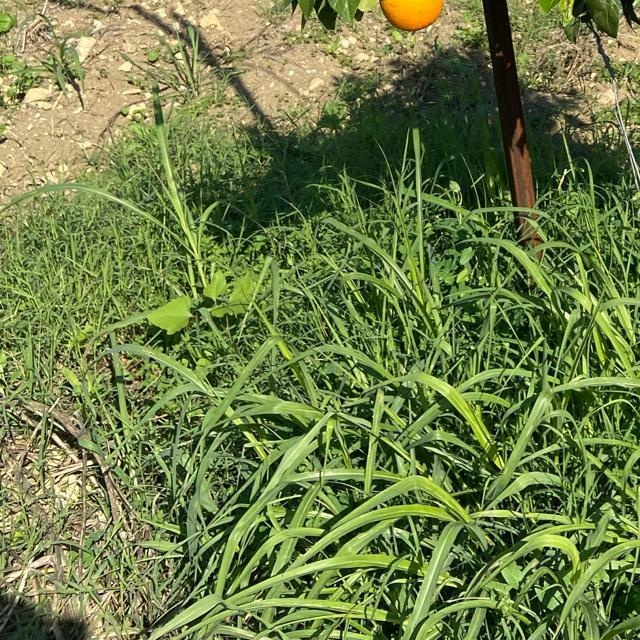orange: (375, 0, 447, 30)
